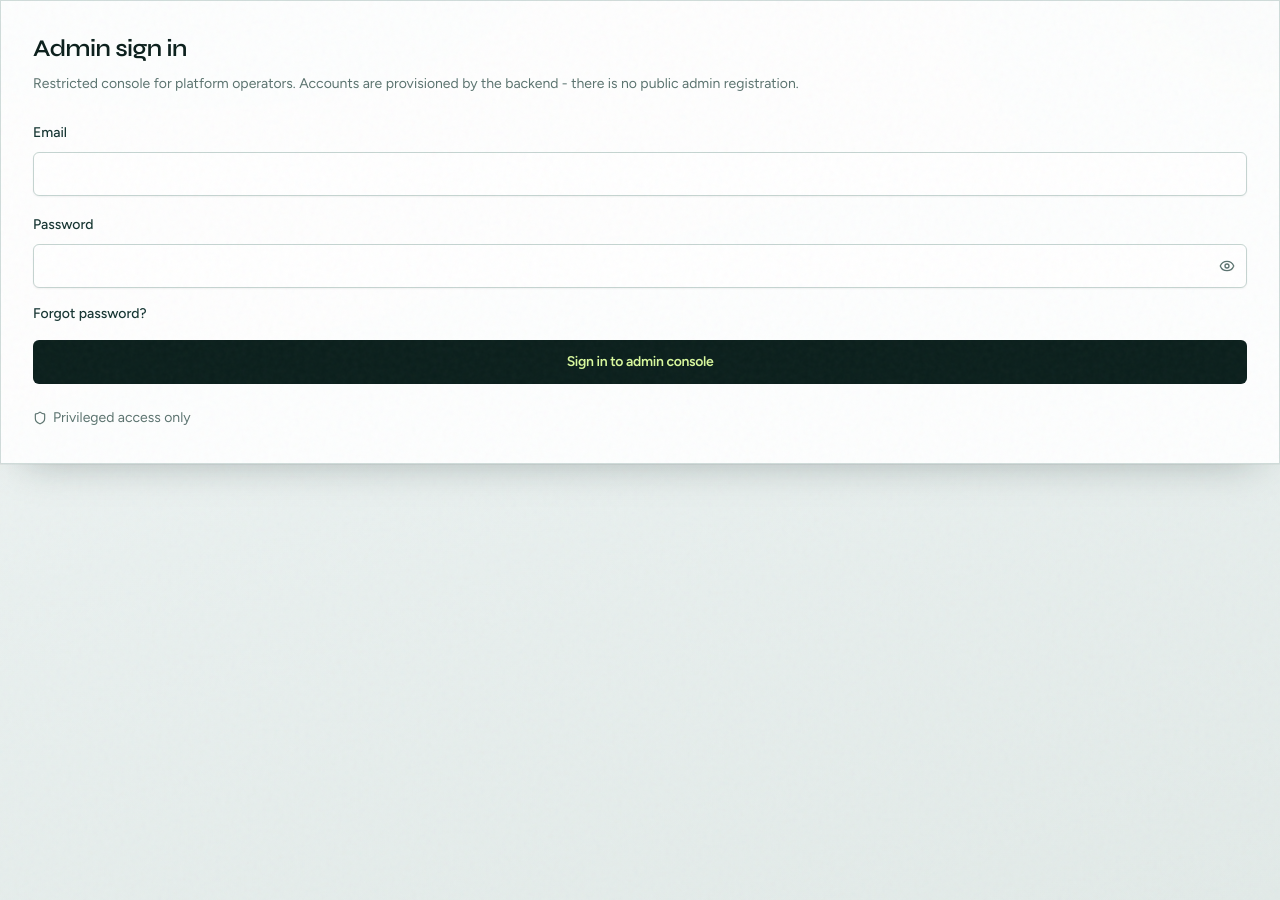
AdminLoginForm › blocks customer accounts
In the field labelled "Email": (640, 174) [33, 152, 1247, 196], type "a@example.com"
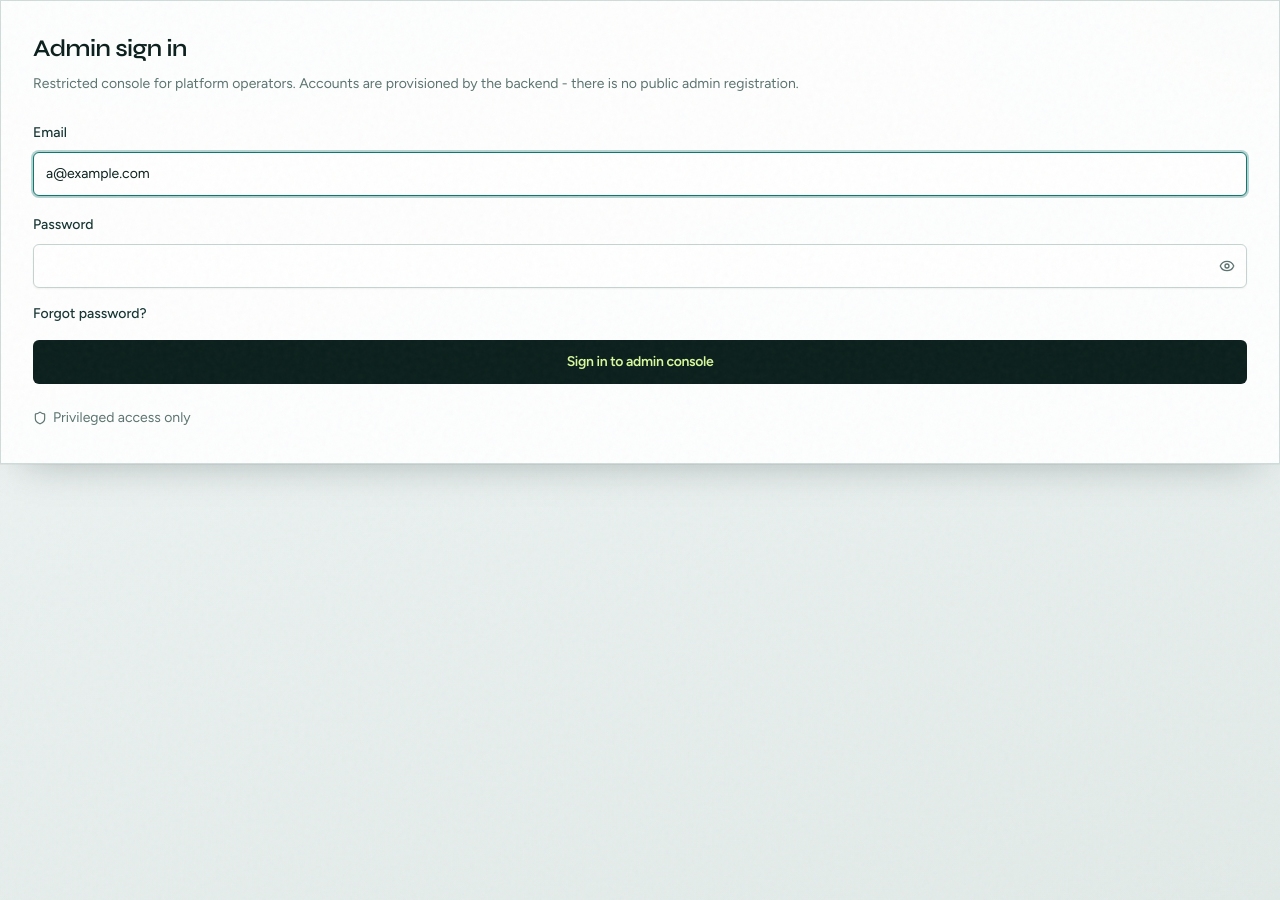
In the password field labelled "Password": (640, 266) [33, 244, 1247, 288], type "Password1"
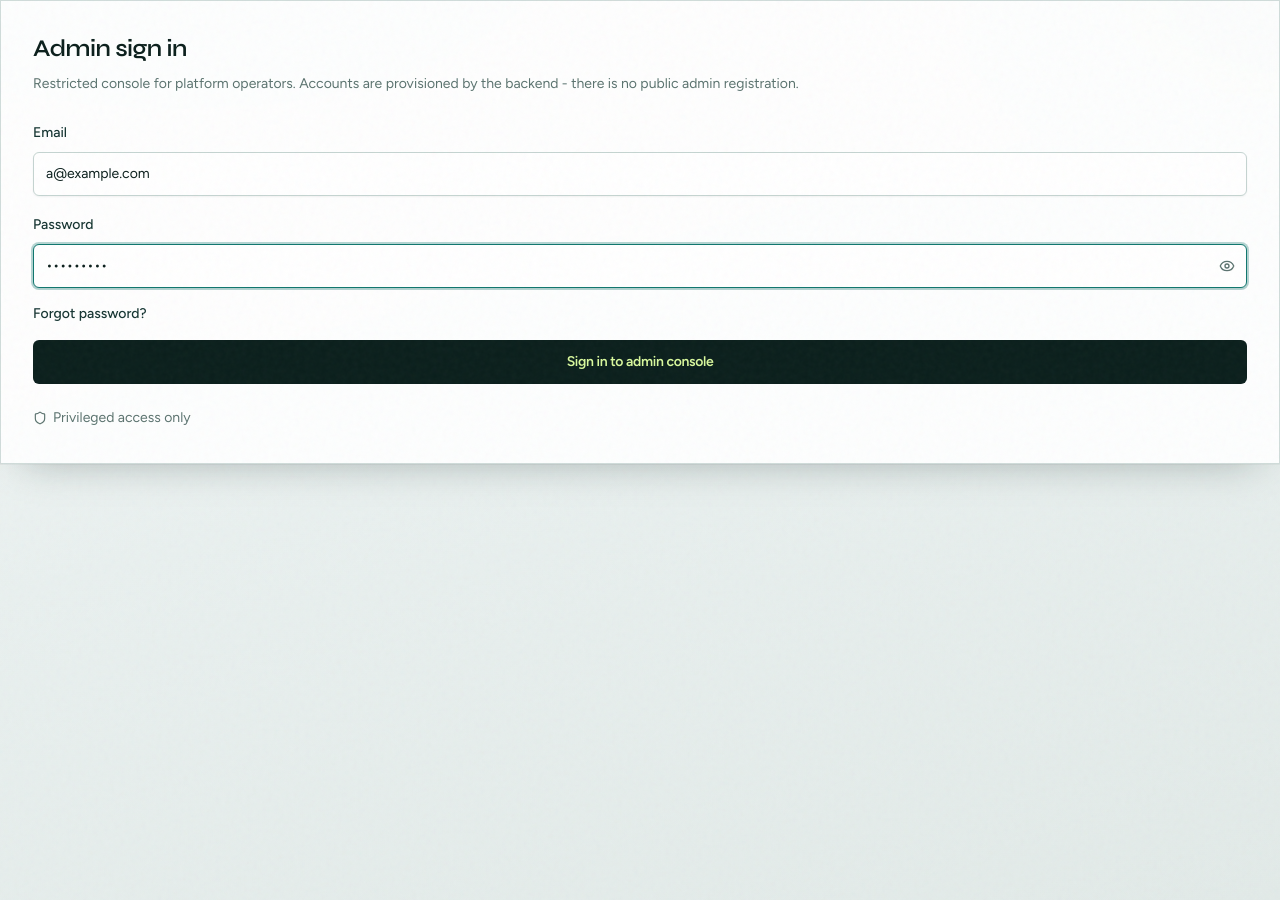
Click the button "Sign in to admin console": (640, 362) [33, 340, 1247, 384]
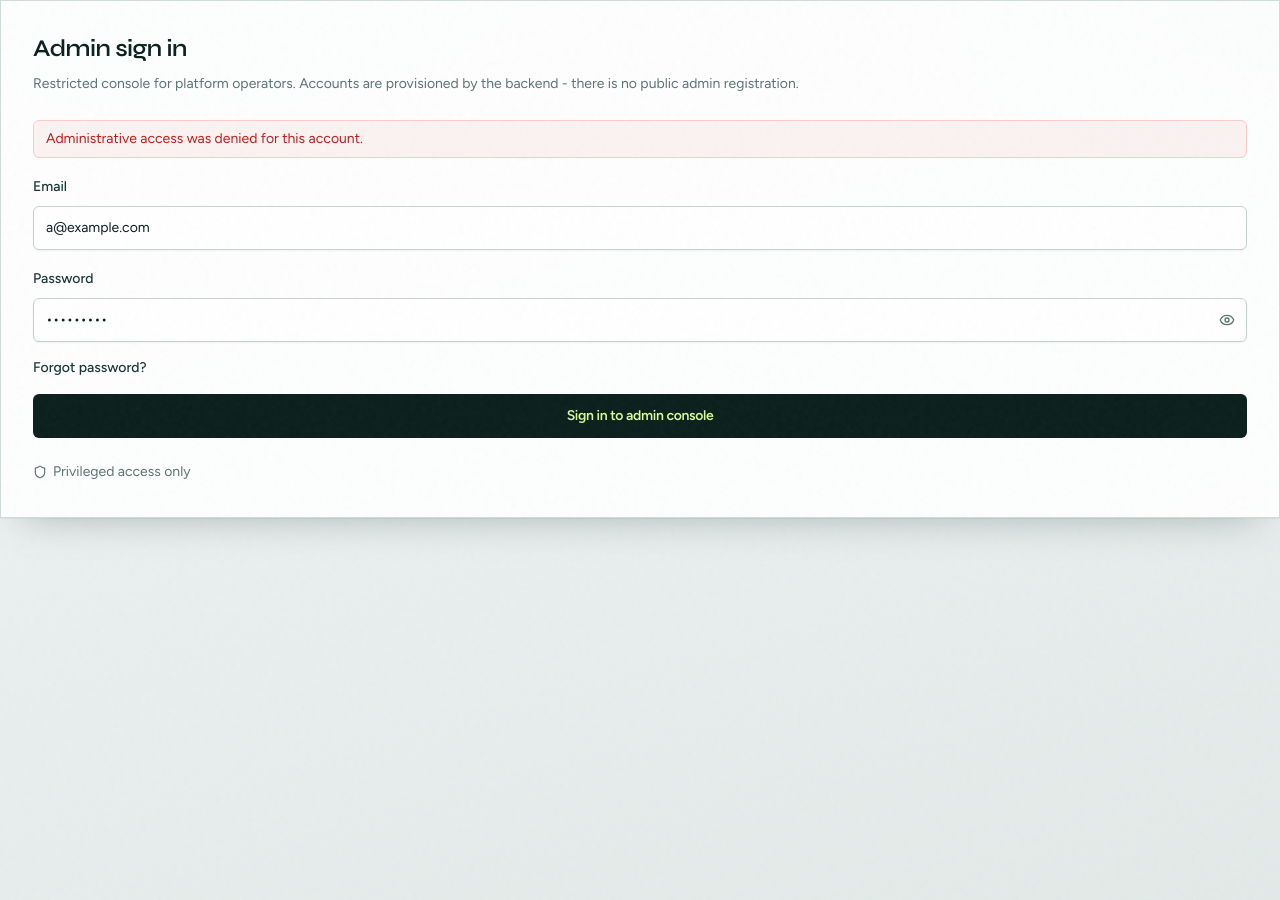
Result: the text "Administrative access was denied for this account." is shown at [33, 120, 1247, 158]
